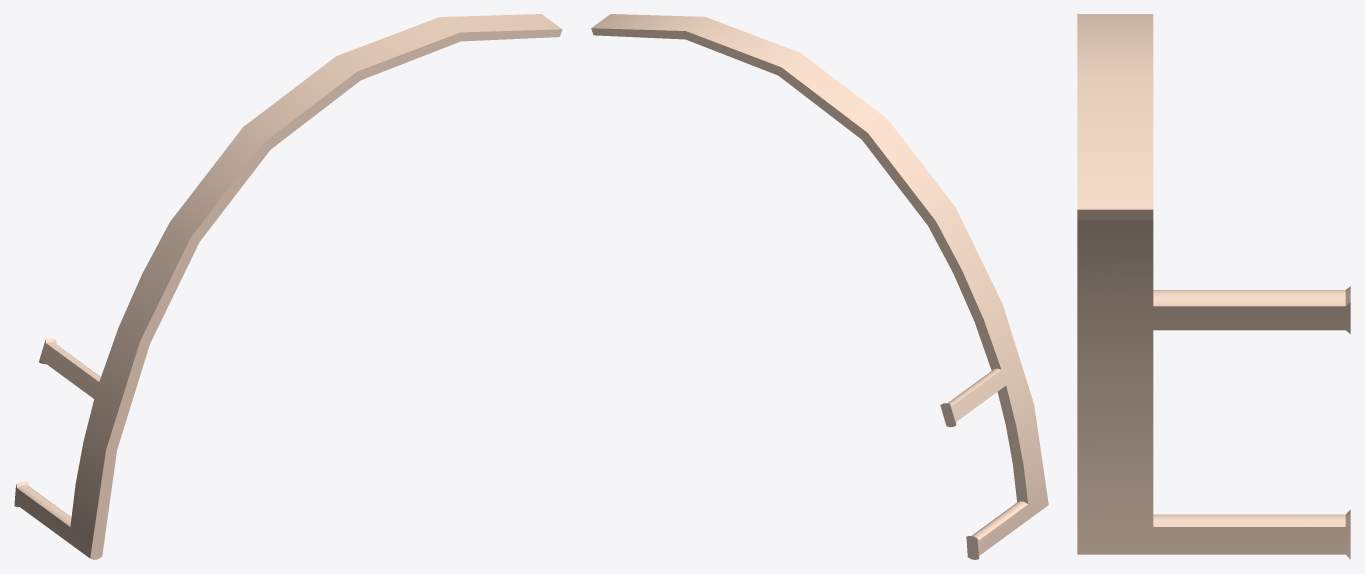
Rendered from Ressort barillet Heures.obj.
3 views of the same model, side by side, from view 1: azimuth 30°, elevation 25°; view 2: azimuth 150°, elevation 25°; view 3: azimuth 270°, elevation 25° (orthographic). The views are drawn at different scales.
Visible parts, largest first — view 1: Face_6, Face_5, Face_11; view 2: Face_5, Face_6, Face_3, Face_4; view 3: Face_8, Face_5, Face_13, Face_12, Face_10.
Boxes of the visible parts, box(x1,y1,x2,y2) form: Face_6: box(14, 222, 190, 558); Face_5: box(170, 14, 561, 237); Face_11: box(90, 29, 562, 559); Face_5: box(591, 14, 954, 220); Face_6: box(936, 207, 1048, 557); Face_3: box(591, 28, 1001, 370); Face_4: box(997, 386, 1027, 503); Face_8: box(1077, 220, 1350, 559); Face_5: box(1077, 14, 1153, 209); Face_13: box(1153, 290, 1345, 306); Face_12: box(1153, 514, 1345, 526); Face_10: box(1077, 209, 1153, 220).
Size of the model in its own units: 0.039 by 0.0348 by 0.0108.
